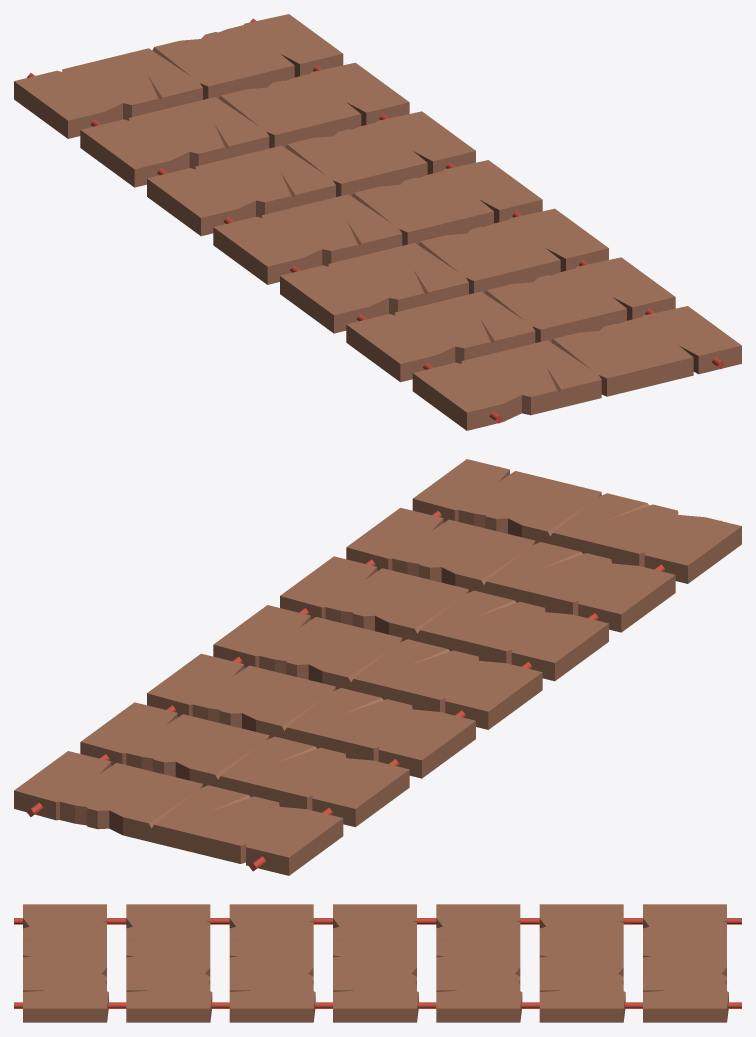
The model's file is Bridge_AssetsHarbor.fbx.
3 renders of one model, top to bottom at view 1: azimuth 30°, elevation 25°; view 2: azimuth 150°, elevation 25°; view 3: azimuth 270°, elevation 25°, orthographic. The views are drawn at different scales.
Visible parts, largest first — view 1: Bridge; view 2: Bridge; view 3: Bridge.
Boxes of the visible parts, x1,y1,x2,y2 form: Bridge: [14, 14, 741, 430]; Bridge: [14, 459, 741, 875]; Bridge: [14, 904, 741, 1022].
Size of the model in its own units: 67.83 by 4.31 by 200.
